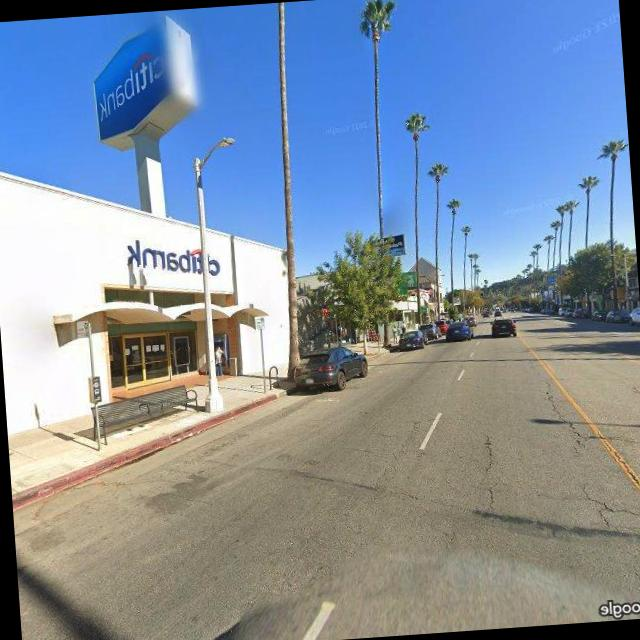crack: (579, 478, 640, 534)
pothole: (540, 374, 590, 456), (476, 426, 505, 513)
